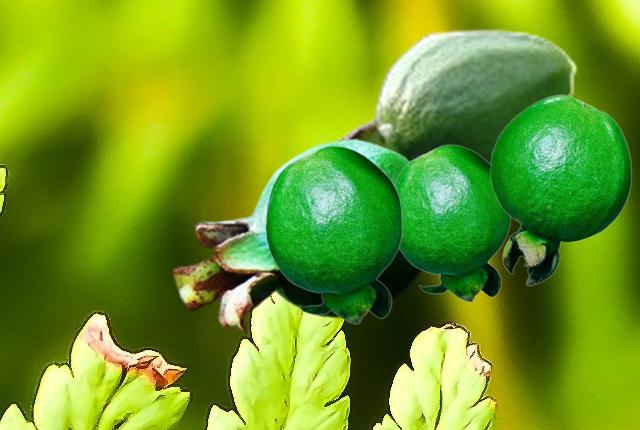guava: (171, 137, 423, 332), (334, 27, 577, 161), (489, 94, 631, 285), (264, 145, 402, 323), (395, 144, 510, 301)
